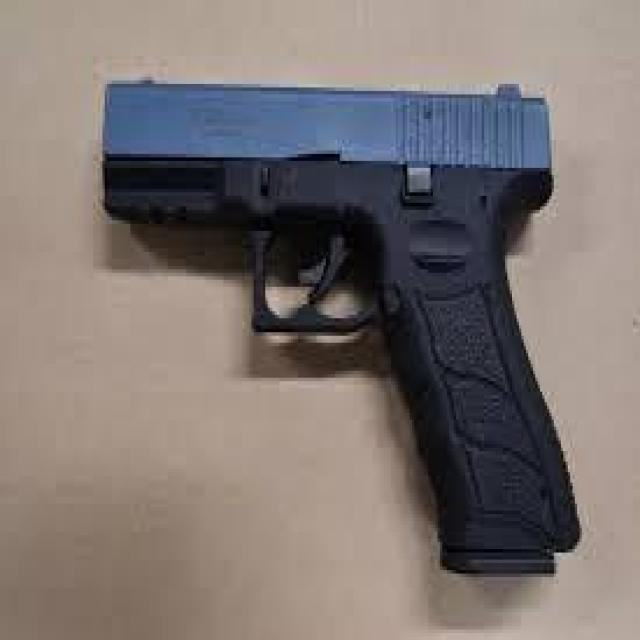gun: (100, 80, 582, 577)
